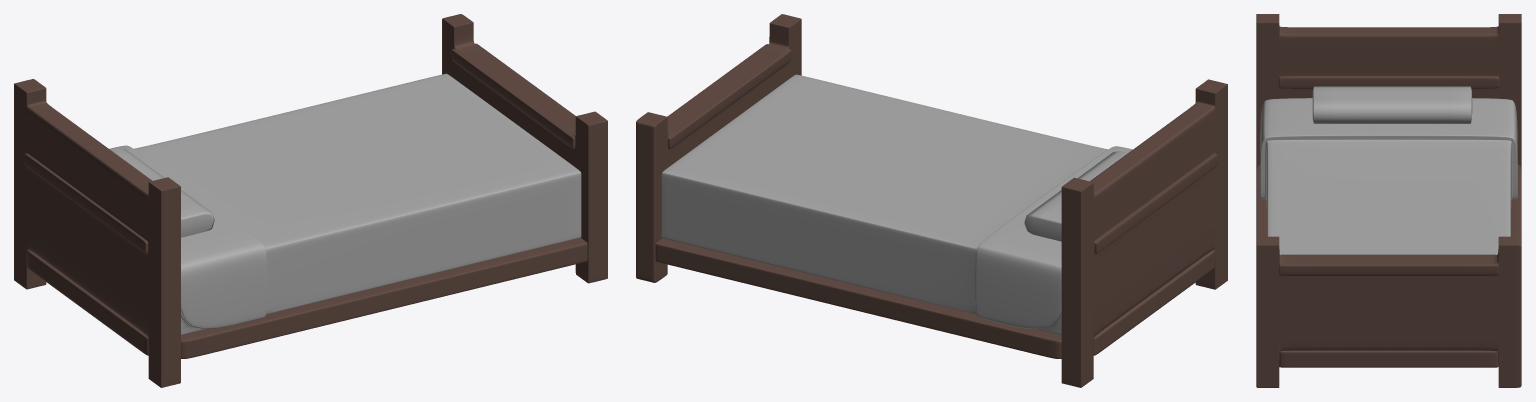
The model's file is Cama 1.fbx.
3 views of the same model, side by side, from view 1: azimuth 30°, elevation 25°; view 2: azimuth 150°, elevation 25°; view 3: azimuth 270°, elevation 25° (orthographic). The views are drawn at different scales.
Visible parts, largest first — view 1: colchon, cabecera1, almuada; view 2: colchon, cabecera1, almuada; view 3: cabecera1, colchon, almuada.
Part boxes in pixels (x1,y1,x2,y2): colchon: (109,73,581,335); cabecera1: (14,14,607,387); almuada: (110,148,214,237); colchon: (661,74,1132,335); cabecera1: (636,14,1227,387); almuada: (1024,151,1127,241); cabecera1: (1256,14,1521,387); colchon: (1260,98,1517,254); almuada: (1312,86,1472,123).
Size of the model in its own units: 8.79 by 3.66 by 4.95.
